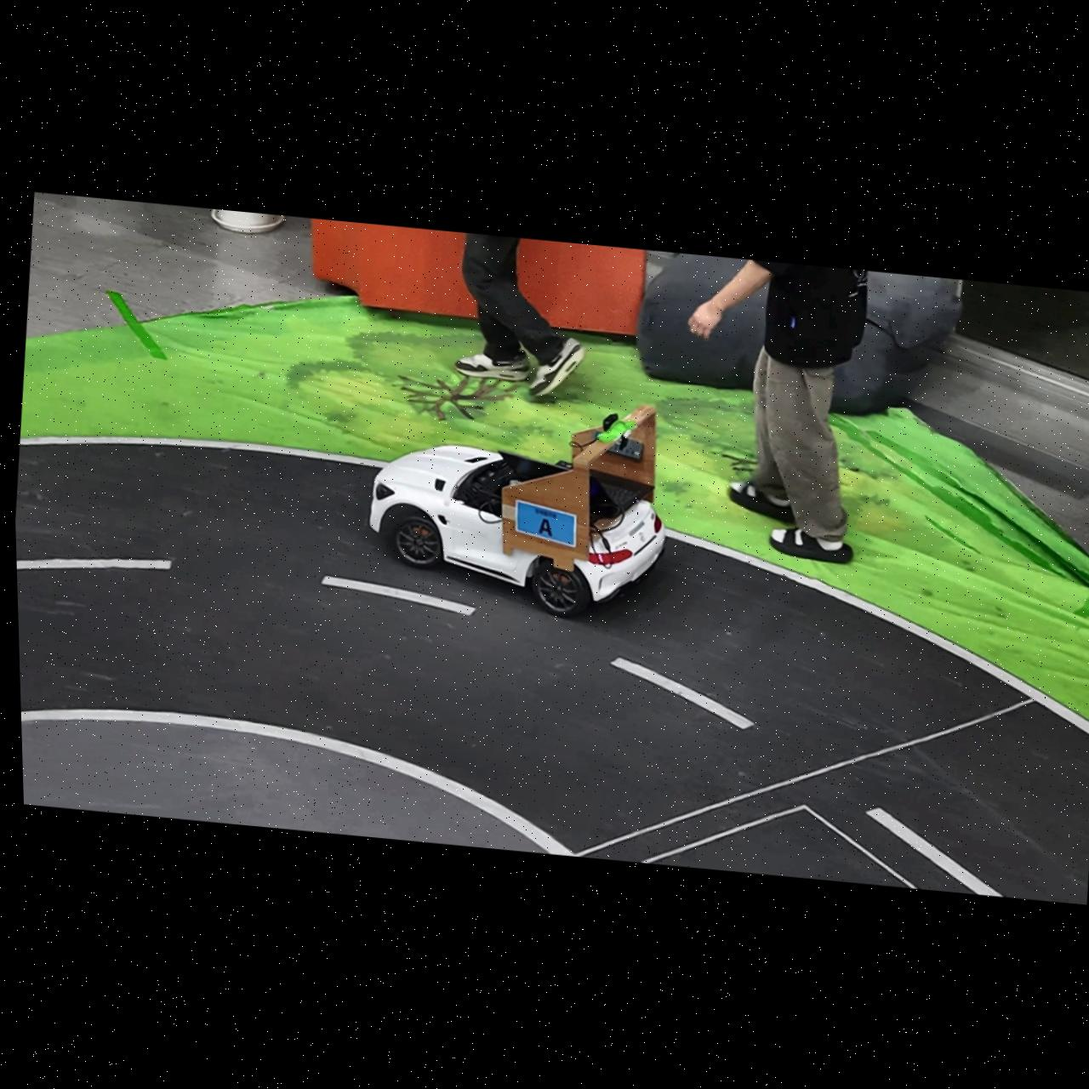broken_line: (866, 807, 1002, 896), (612, 658, 755, 730), (321, 576, 474, 615), (17, 559, 171, 570)
